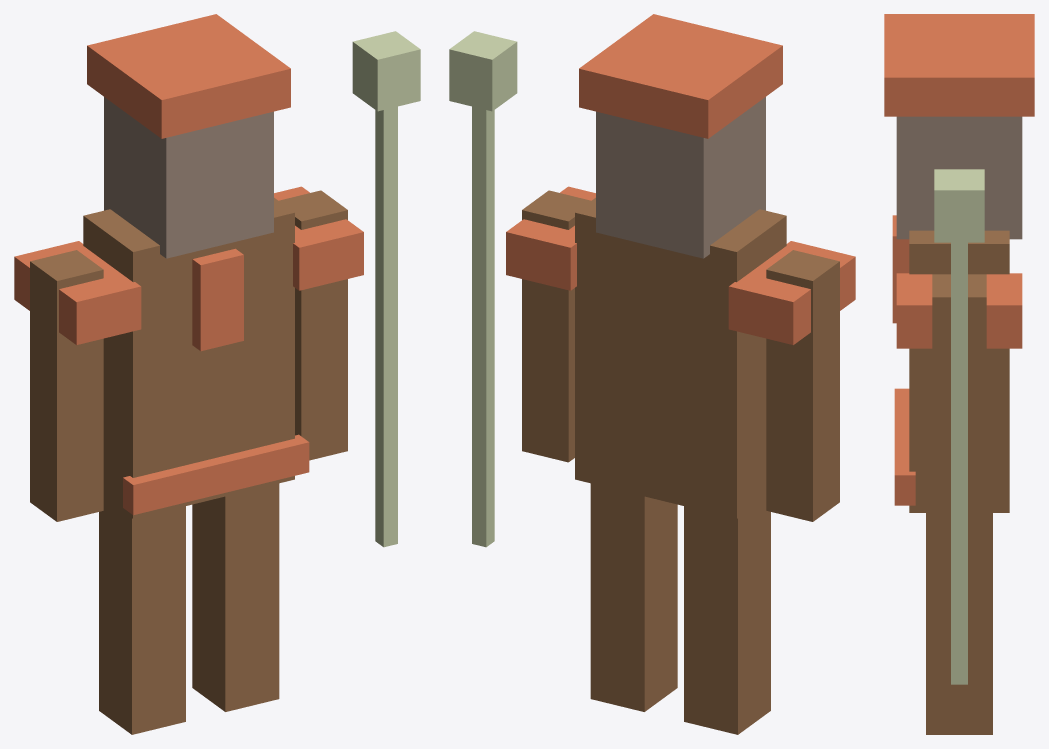
The model's file is 09_luma_voidrill_herald_under_quarantine.glb.
3 views of the same model, side by side, from view 1: azimuth 30°, elevation 25°; view 2: azimuth 150°, elevation 25°; view 3: azimuth 270°, elevation 25° (orthographic).
Parts seen in each view (by area): view 1: Luma Voidrill, Herald under Quarantine; view 2: Luma Voidrill, Herald under Quarantine; view 3: Luma Voidrill, Herald under Quarantine.
Boxes of the visible parts, left/top/right/bottom form: Luma Voidrill, Herald under Quarantine: left=14, top=14, right=420, bottom=734; Luma Voidrill, Herald under Quarantine: left=449, top=14, right=855, bottom=734; Luma Voidrill, Herald under Quarantine: left=884, top=14, right=1034, bottom=734.
Size of the model in its own units: 1 by 1.7 by 0.3558.
